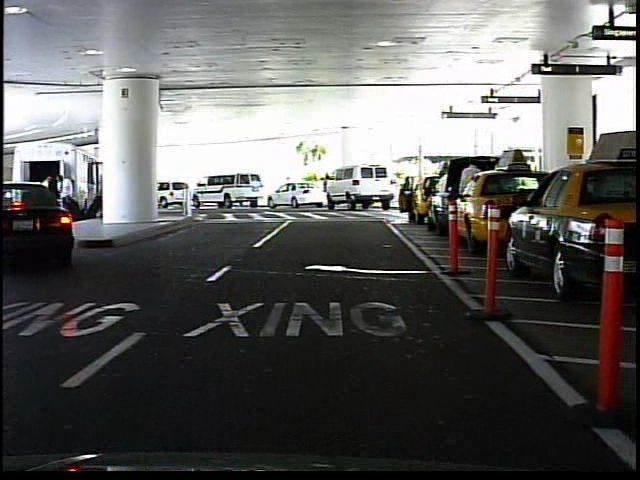person: (455, 155, 486, 236), (279, 173, 295, 204)
